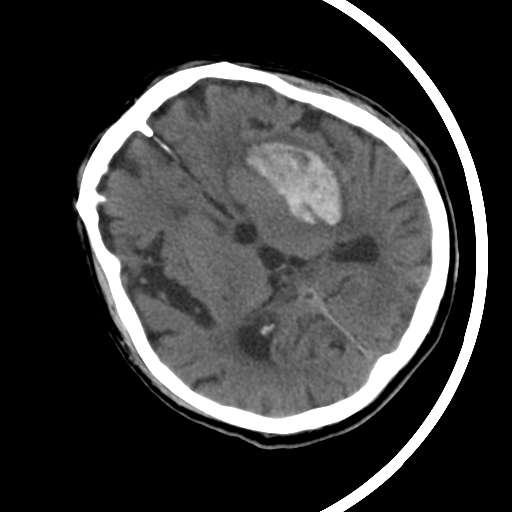a: (231, 126, 357, 240)
